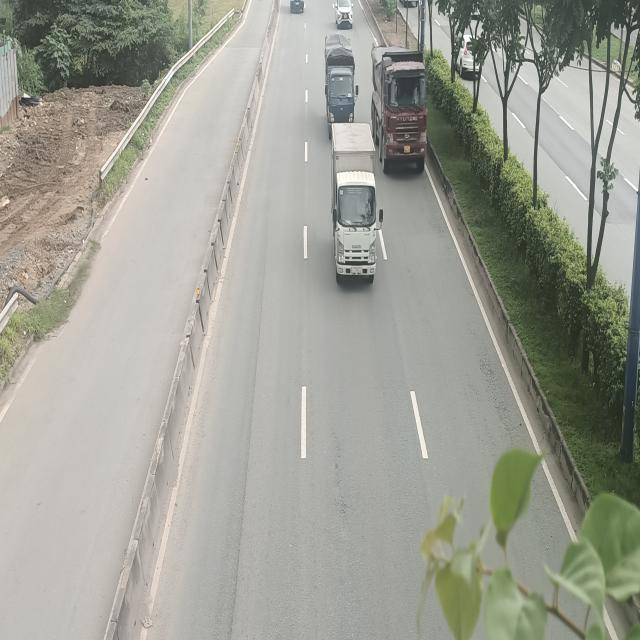container: (369, 48, 427, 178)
truck: (332, 124, 385, 284), (325, 34, 360, 138)
